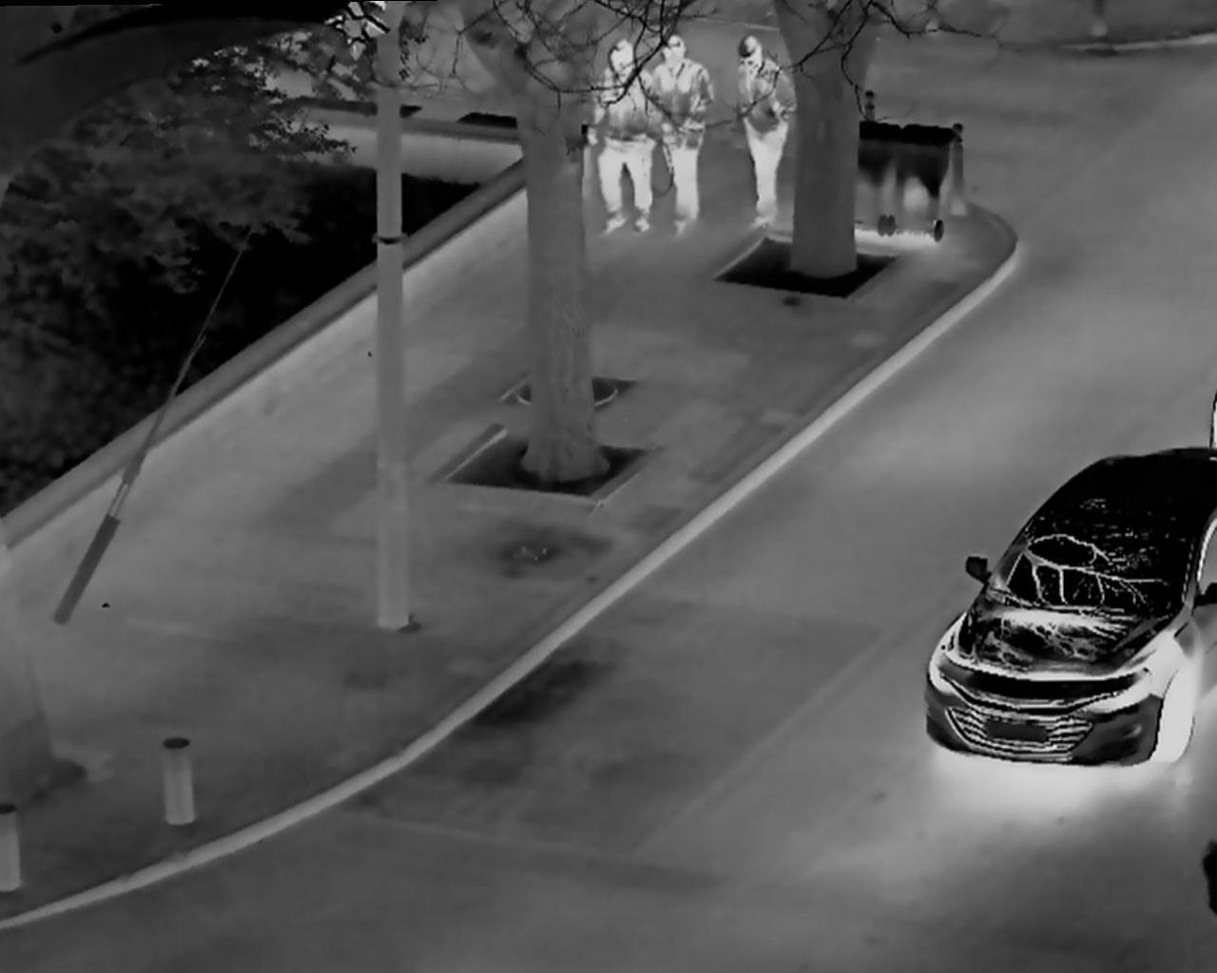person: (585, 30, 662, 238), (651, 30, 721, 234), (727, 30, 795, 224)
